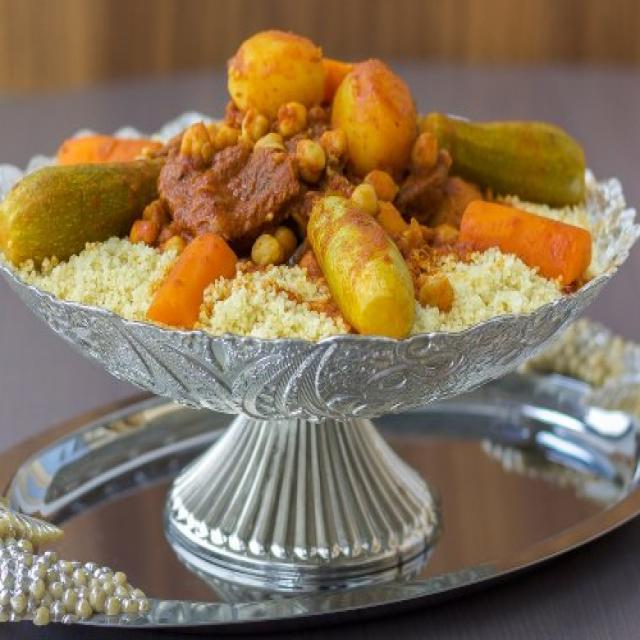Couscous: (0, 25, 615, 334)
